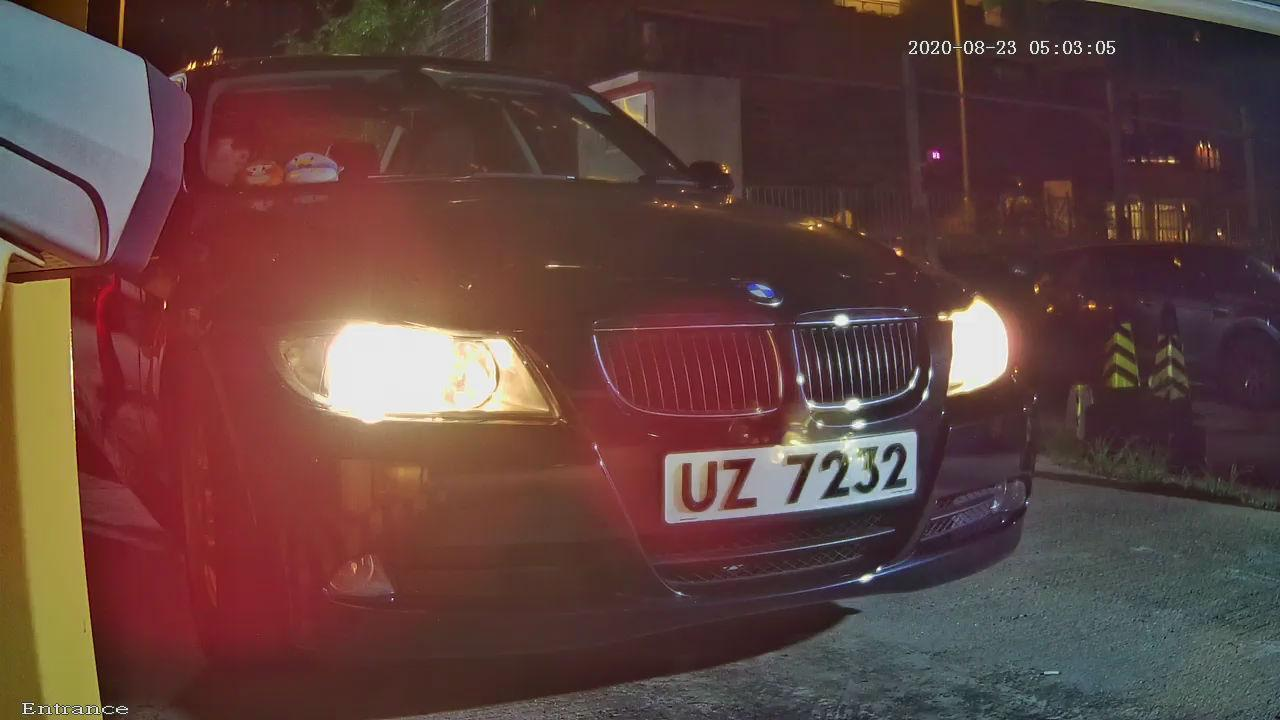Car: (1, 23, 1143, 704)
License Plate: (646, 415, 943, 537)
